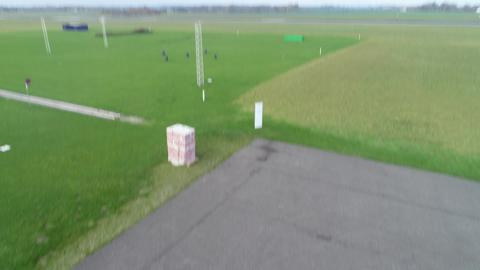RockwoolPallet: (166, 123, 197, 166)
